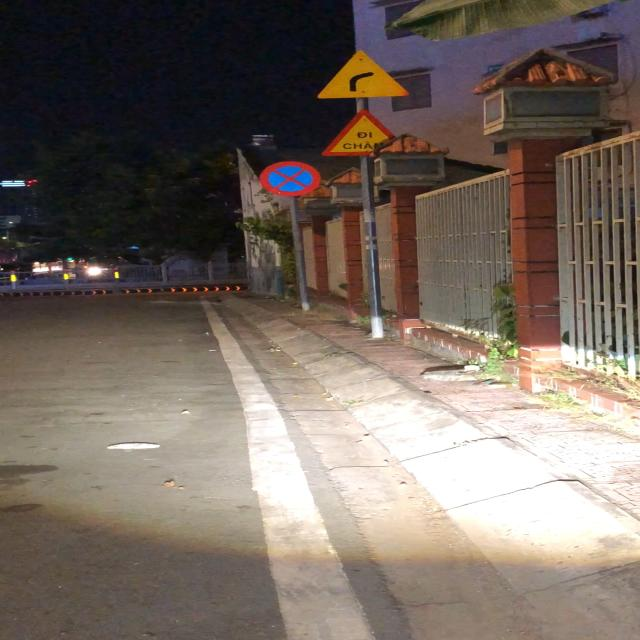Bien bao cam dung xe va do xe: (259, 160, 323, 198)
Bien bao cho ngoat nguy hiem: (316, 48, 409, 101)
Bien bao di cham: (322, 108, 411, 158)
